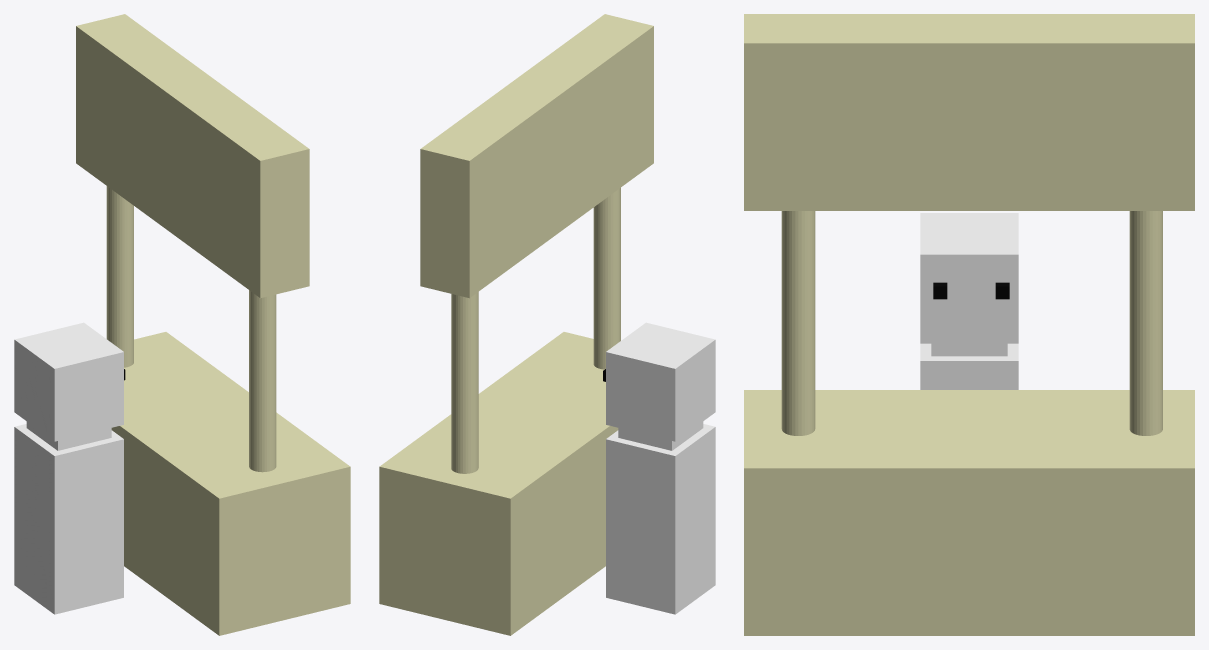
The model's file is shop.glb.
The picture shows the model from 3 angles, left to right: view 1: azimuth 30°, elevation 25°; view 2: azimuth 150°, elevation 25°; view 3: azimuth 270°, elevation 25°; orthographic projection. The views are drawn at different scales.
Visible parts, largest first — view 1: Cube, Cube.004, Cube.002, Cube.001, Cylinder, Cylinder.001, Cube.003; view 2: Cube, Cube.004, Cube.002, Cube.001, Cylinder.001, Cylinder, Cube.003; view 3: Cube, Cube.004, Cube.001, Cylinder, Cylinder.001, Cube.002, Cube.003.
Boxes of the visible parts, x1=… form: Cube: x1=111, y1=332, x2=350, y2=635; Cube.004: x1=76, y1=14, x2=309, y2=298; Cube.002: x1=14, y1=424, x2=123, y2=614; Cube.001: x1=14, y1=322, x2=123, y2=441; Cylinder: x1=249, y1=290, x2=276, y2=472; Cylinder.001: x1=106, y1=186, x2=133, y2=367; Cube.003: x1=26, y1=421, x2=111, y2=450; Cube: x1=379, y1=332, x2=618, y2=635; Cube.004: x1=420, y1=14, x2=653, y2=298; Cube.002: x1=606, y1=424, x2=715, y2=614; Cube.001: x1=606, y1=322, x2=715, y2=441; Cylinder.001: x1=451, y1=292, x2=478, y2=473; Cylinder: x1=593, y1=188, x2=620, y2=369; Cube.003: x1=618, y1=421, x2=703, y2=450; Cube: x1=744, y1=390, x2=1194, y2=635; Cube.004: x1=744, y1=14, x2=1194, y2=210; Cube.001: x1=920, y1=213, x2=1018, y2=343; Cylinder: x1=781, y1=211, x2=815, y2=435; Cylinder.001: x1=1129, y1=211, x2=1162, y2=435; Cube.002: x1=920, y1=343, x2=1018, y2=389; Cube.003: x1=931, y1=343, x2=1007, y2=356.
Size of the model in its own units: 4.39 by 8.87 by 6.26.
